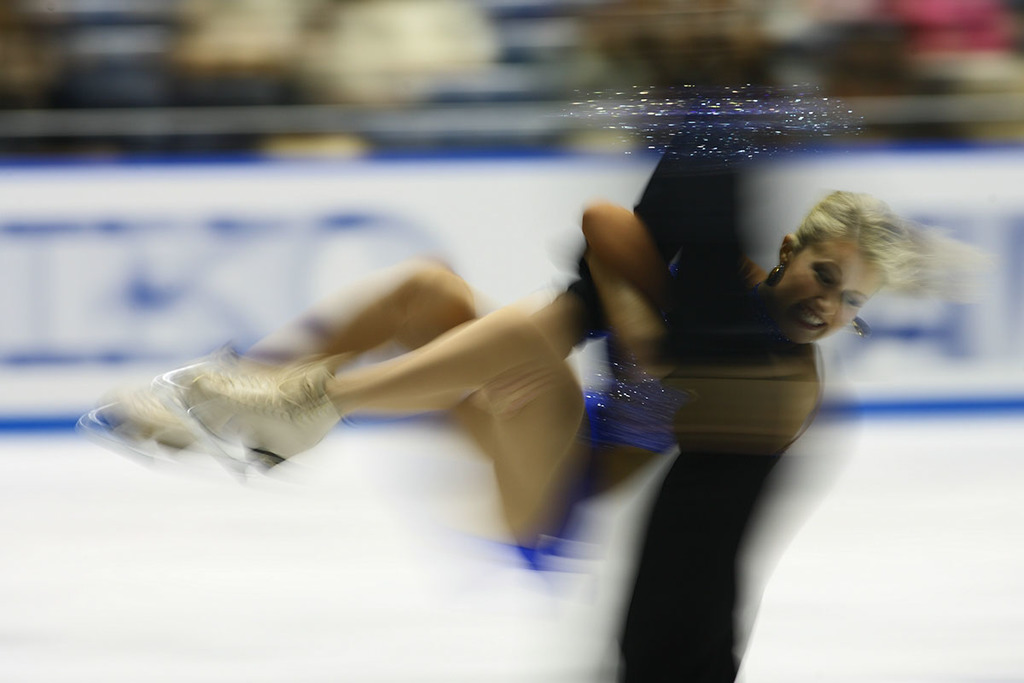face: (777, 238, 879, 343)
